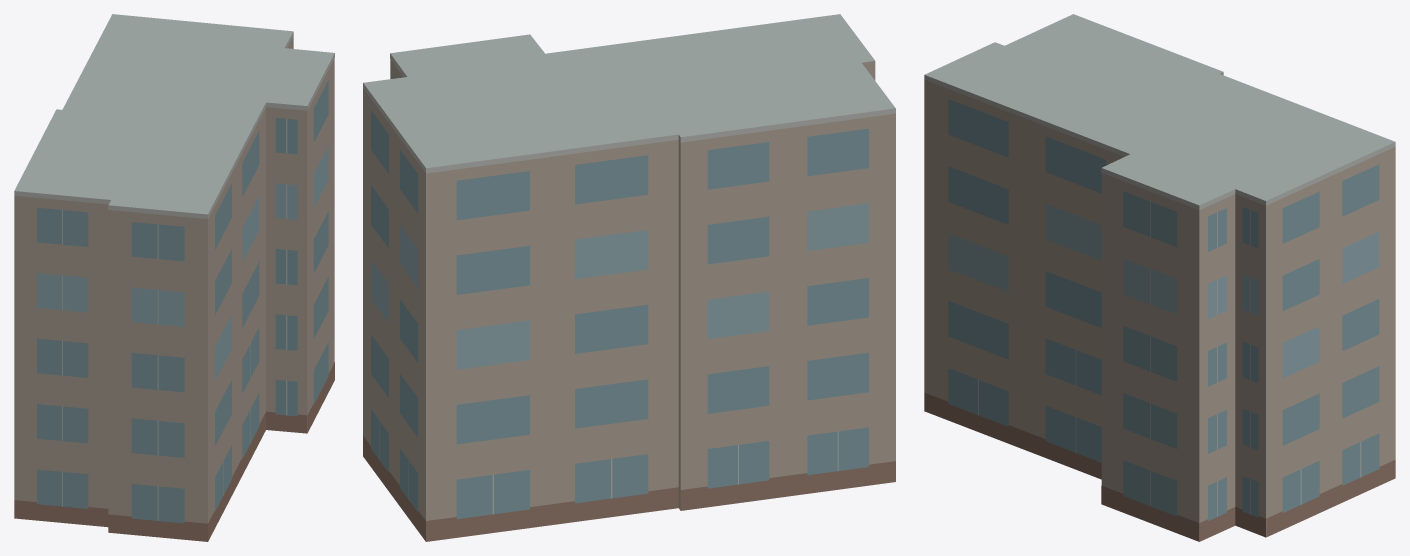
The model's file is survey-upis-32509536.glb.
The picture shows the model from 3 angles, left to right: view 1: azimuth 30°, elevation 25°; view 2: azimuth 150°, elevation 25°; view 3: azimuth 270°, elevation 25°; orthographic projection. The views are drawn at different scales.
Visible parts, largest first — view 1: survey-upis-32509536.tmp; view 2: survey-upis-32509536.tmp; view 3: survey-upis-32509536.tmp.
Boxes of the visible parts, x1,y1,x2,y2 form: survey-upis-32509536.tmp: [14, 14, 334, 541]; survey-upis-32509536.tmp: [363, 14, 895, 541]; survey-upis-32509536.tmp: [924, 14, 1395, 541].
Bounding box in the file's own units: 21.12 × 17.3 × 21.97.
